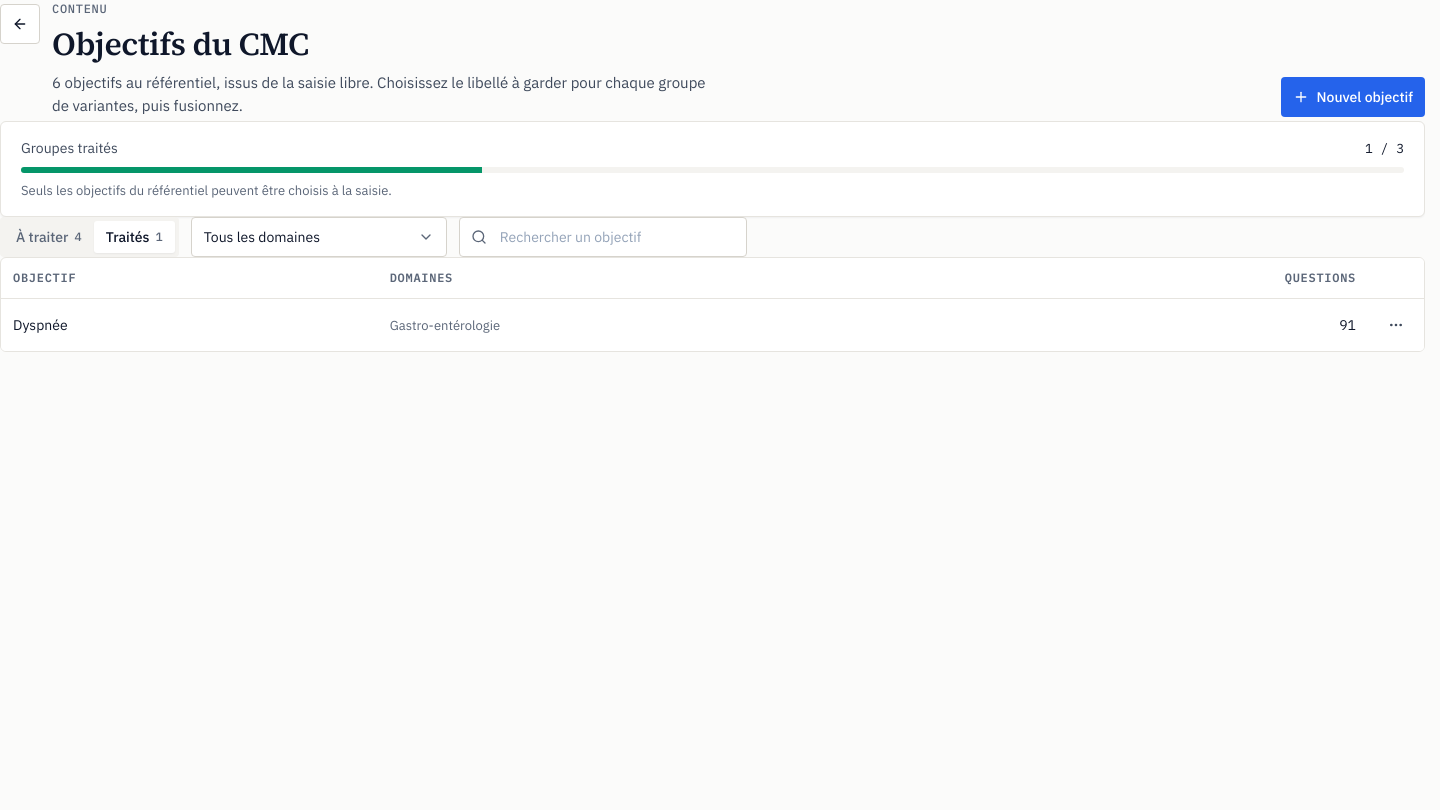
Test: gestion du référentiel › supprimer un objectif utilisé : refus affiché, rien n'est rechargé
Click the button named "Actions sur « Dyspnée »": (1396, 325) [1380,309,1412,341]
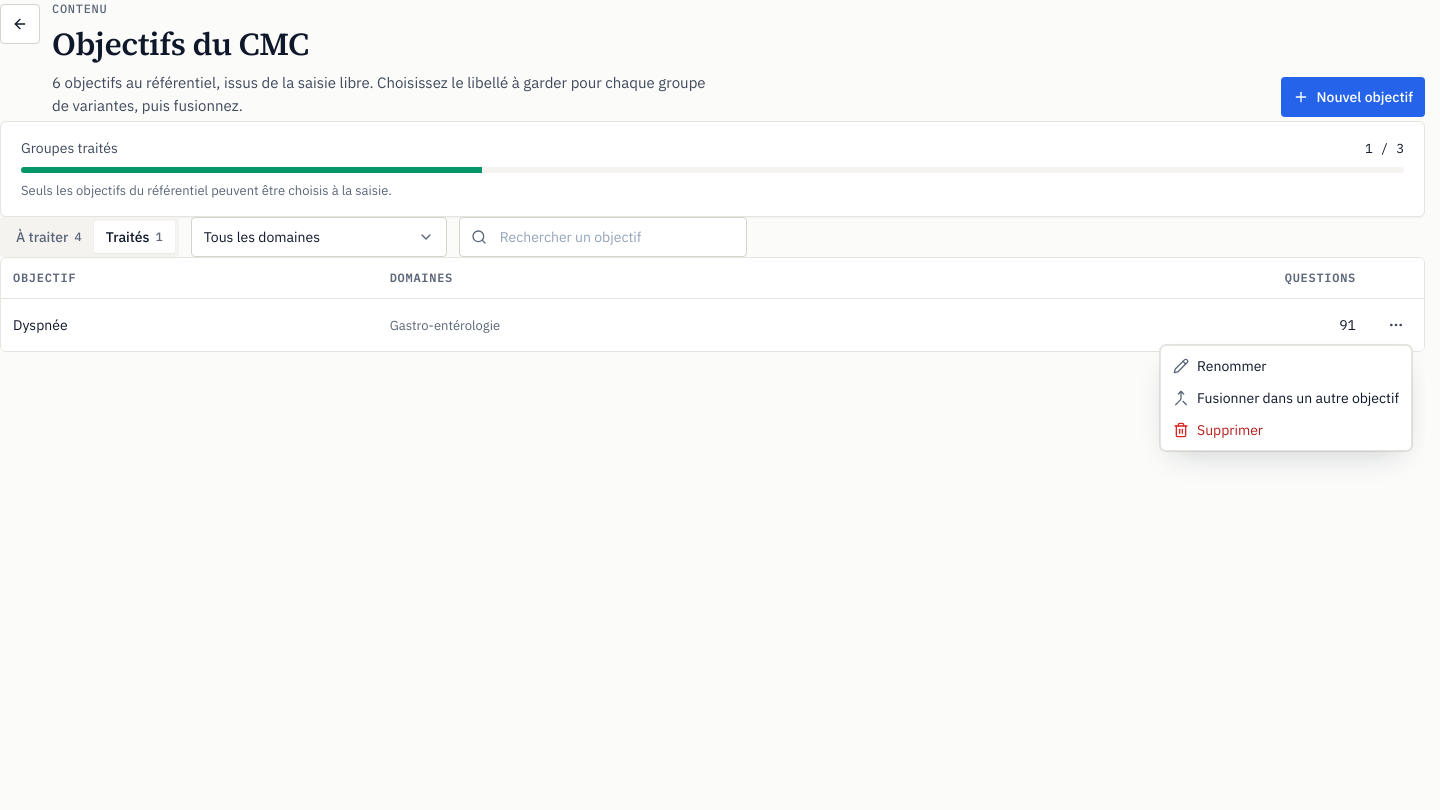
Click the menu item "Supprimer": (1218, 430) [1173,421,1263,439]
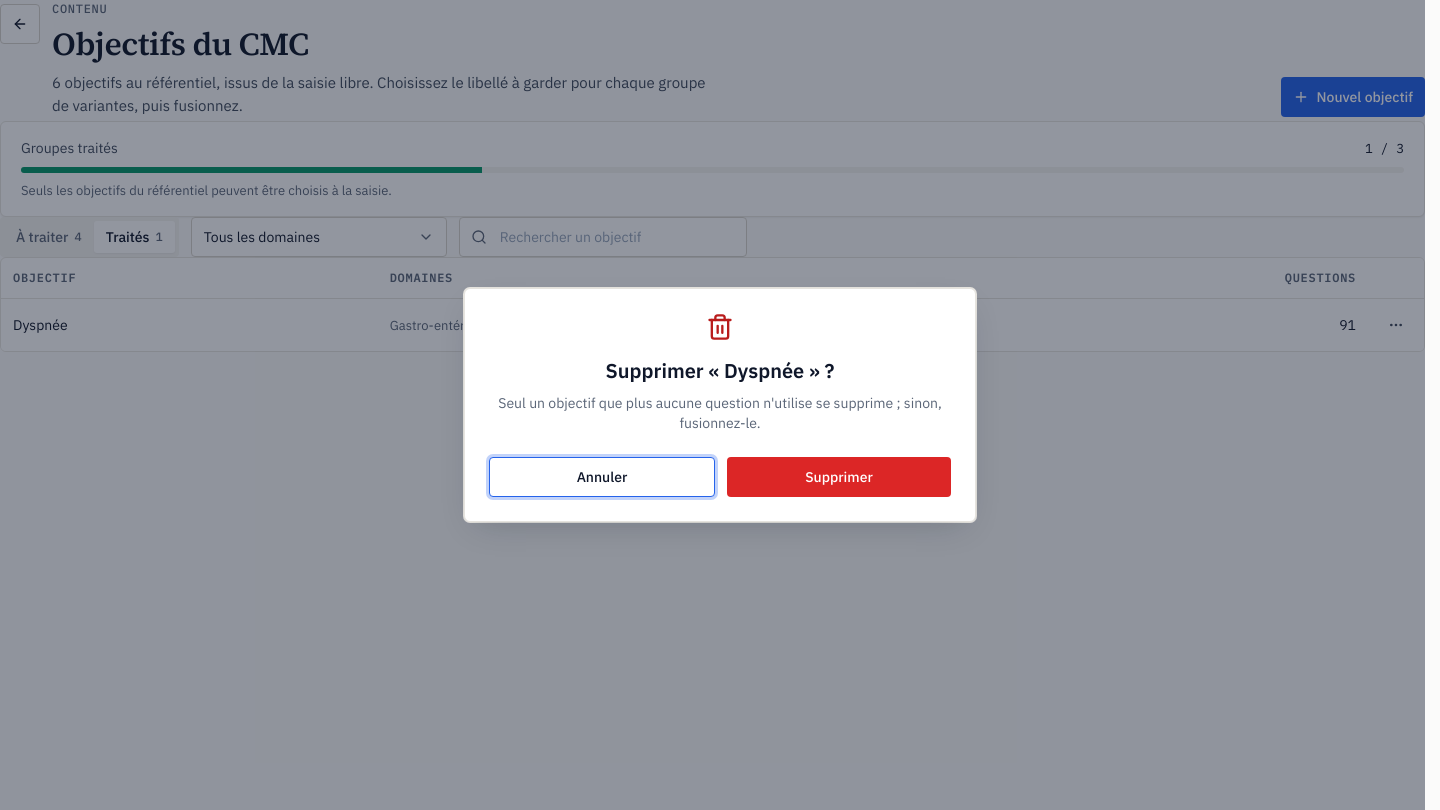
Click the button "Supprimer": (839, 477) [727,457,951,497]
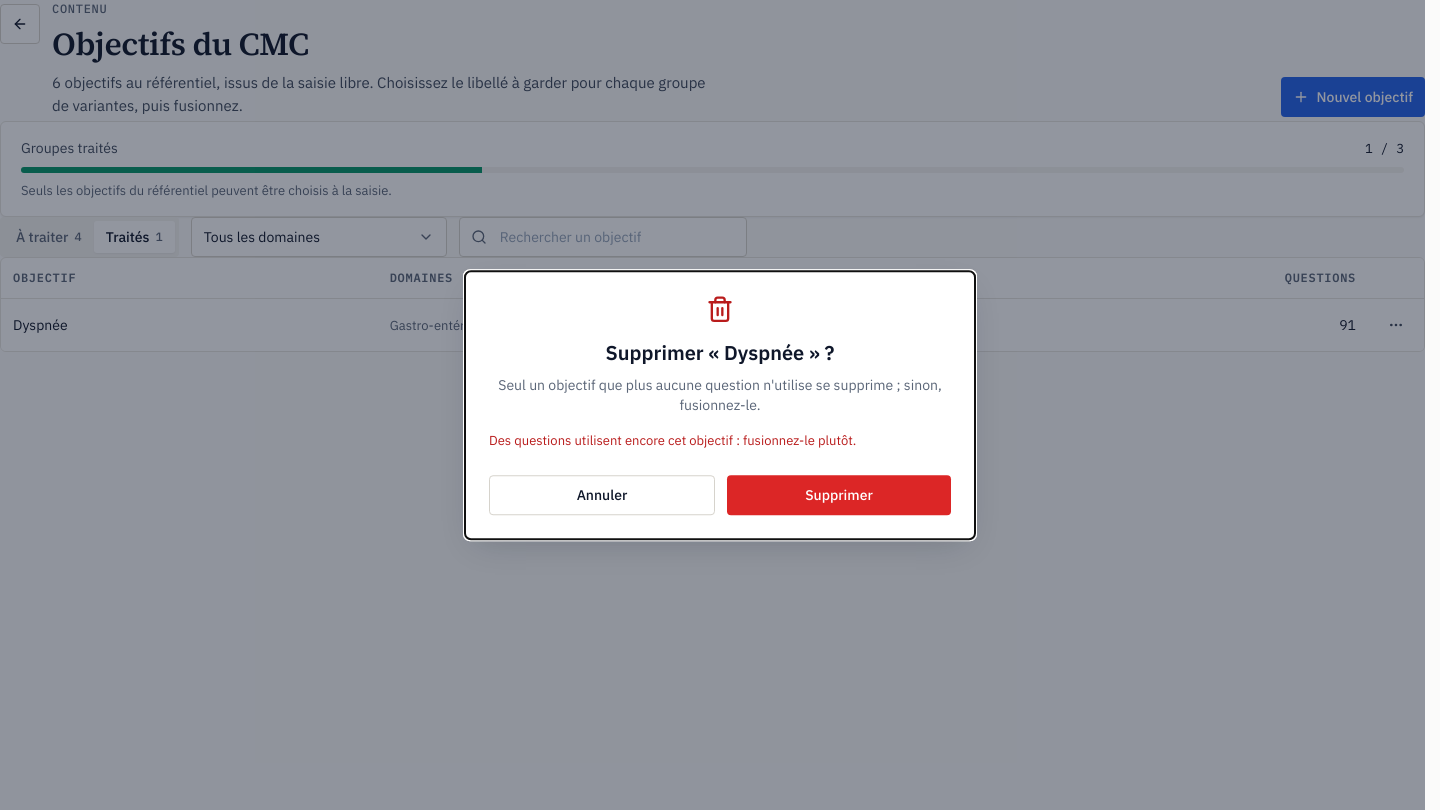
Result: the text "Des questions utilisent encore cet objectif : fusionnez-le plutôt." is shown at [489,432,856,449]
